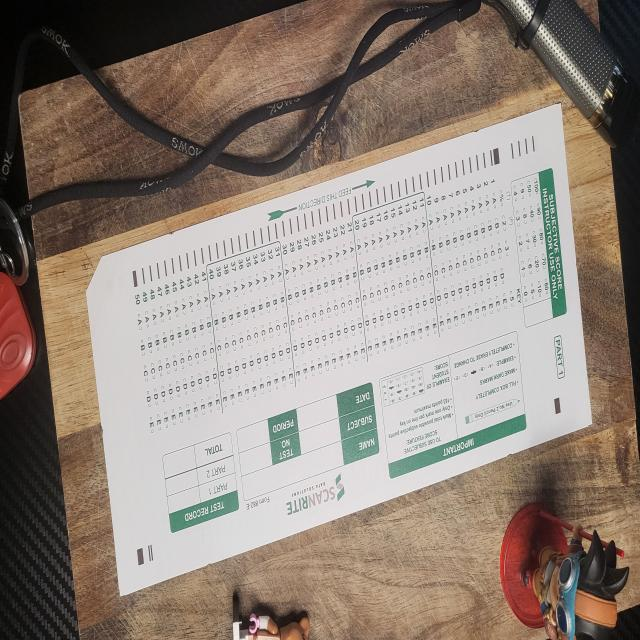scantron: (85, 102, 593, 600)
